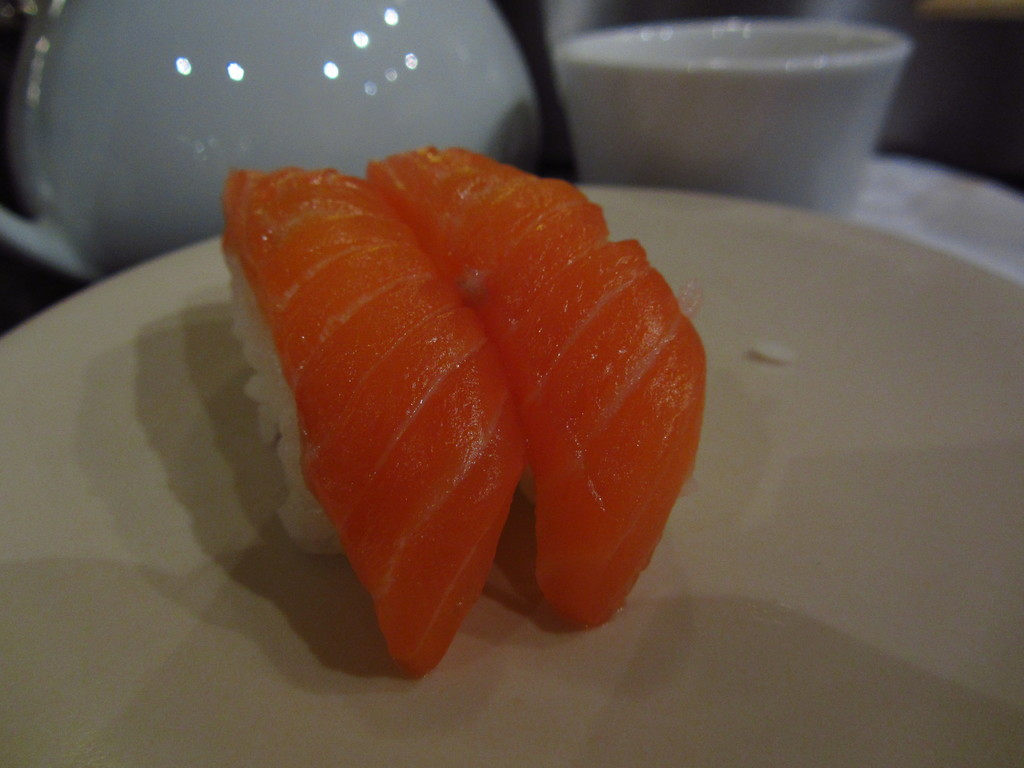sushi: (356, 151, 711, 617)
